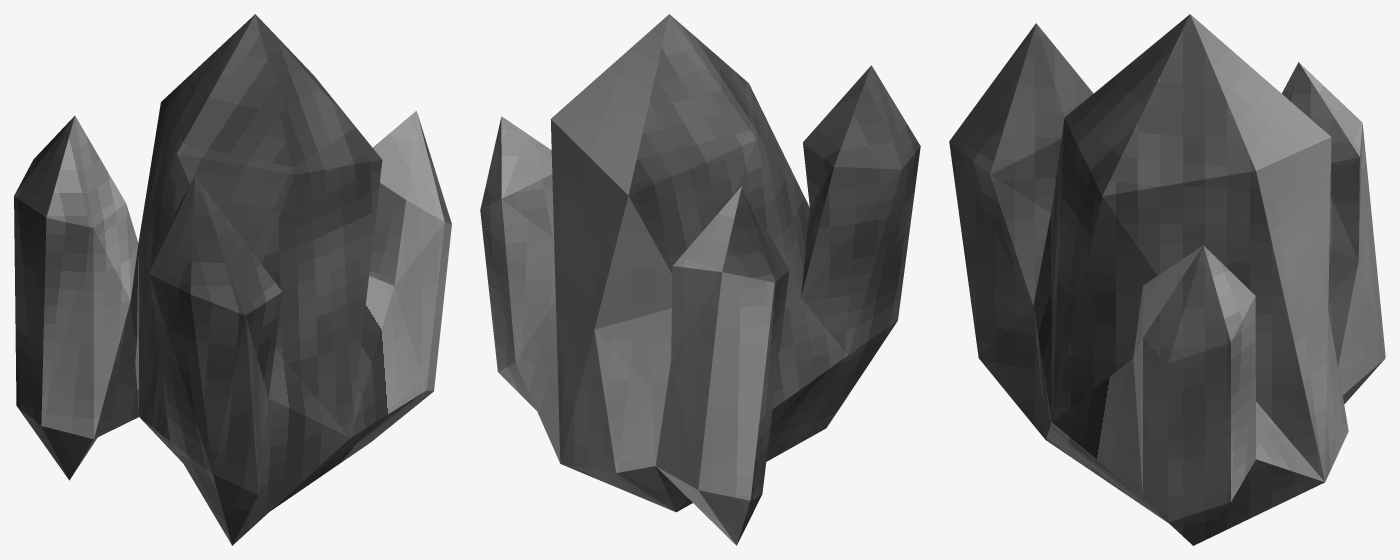
File: crystal.obj
The picture shows the model from 3 angles, left to right: view 1: azimuth 30°, elevation 25°; view 2: azimuth 150°, elevation 25°; view 3: azimuth 270°, elevation 25°; orthographic projection. The views are drawn at different scales.
Visible parts, largest first — view 1: none; view 2: none; view 3: none.
Boxes of the visible parts, x1,y1,x2,y2 form: none: (14, 14, 451, 545); none: (480, 14, 920, 545); none: (949, 14, 1385, 545).
Size of the model in its own units: 0.0733 by 0.0996 by 0.0743.
